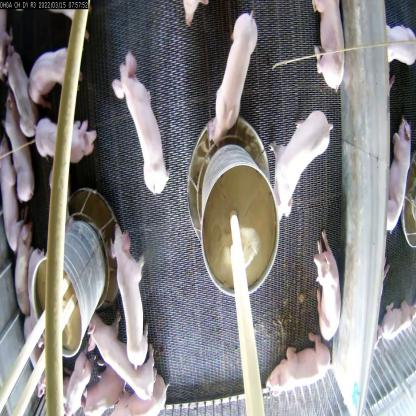Pig: (268, 102, 333, 222), (113, 58, 168, 197), (107, 216, 154, 360), (207, 16, 258, 146), (86, 326, 164, 405), (267, 333, 331, 412), (5, 92, 40, 213), (303, 0, 347, 96), (26, 105, 91, 169), (312, 224, 345, 338), (28, 44, 78, 112), (0, 51, 32, 145), (0, 131, 23, 261), (114, 381, 175, 415), (14, 212, 36, 306), (62, 350, 93, 415), (81, 368, 121, 415)
